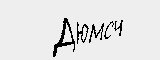Д: (47, 12, 76, 58)
М: (88, 18, 103, 44)
С: (100, 18, 114, 42)
Ч: (112, 17, 124, 39)
Ю: (76, 19, 88, 48)
